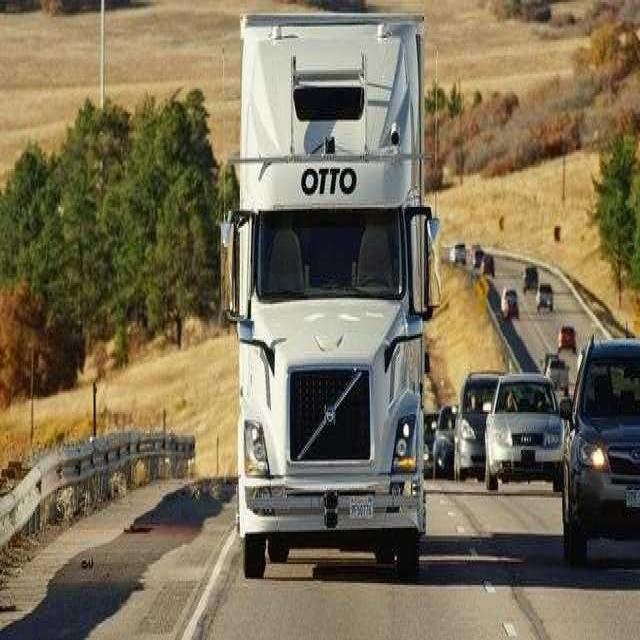Truck: (217, 0, 448, 593)
